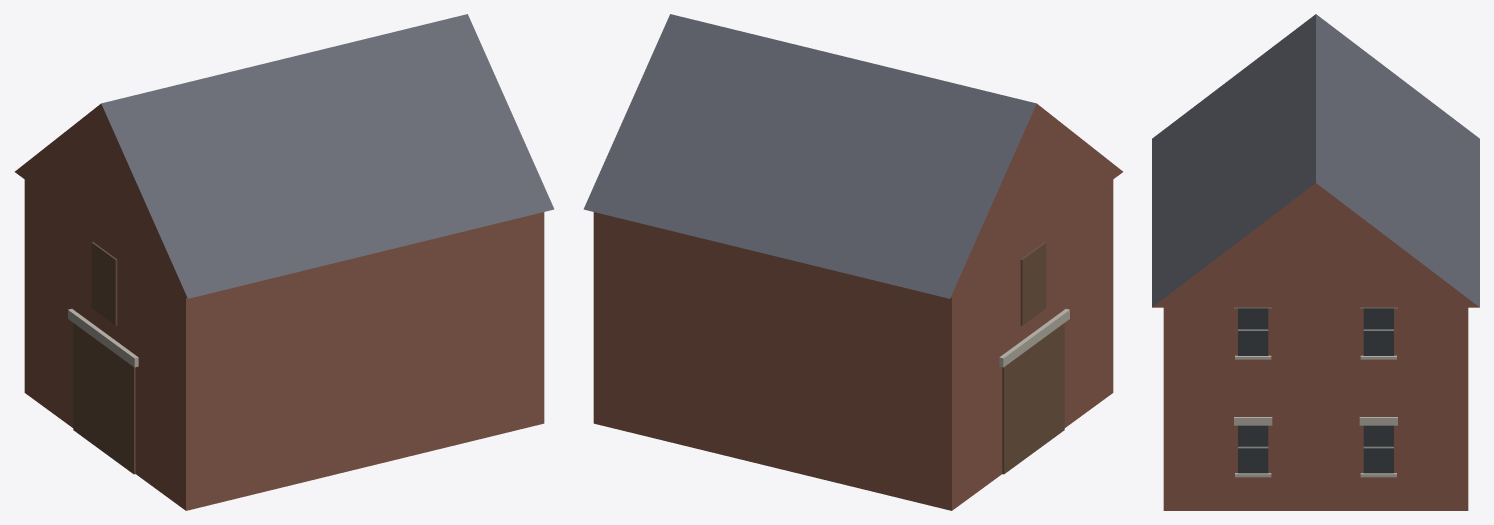
File: house_1813_indiana_coach_house__draft_1904.glb
The picture shows the model from 3 angles, left to right: view 1: azimuth 30°, elevation 25°; view 2: azimuth 150°, elevation 25°; view 3: azimuth 270°, elevation 25°; orthographic projection. The views are drawn at different scales.
Visible parts, largest first — view 1: house_1813_indiana_coach_house__draft_1904; view 2: house_1813_indiana_coach_house__draft_1904; view 3: house_1813_indiana_coach_house__draft_1904.
Part boxes in pixels (x1,y1,x2,y2): house_1813_indiana_coach_house__draft_1904: [15, 14, 554, 510]; house_1813_indiana_coach_house__draft_1904: [583, 14, 1122, 510]; house_1813_indiana_coach_house__draft_1904: [1152, 14, 1479, 510].
Size of the model in its own units: 10.49 by 9.56 by 8.6.
